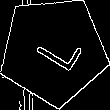L_NW: (25, 25, 82, 77)
